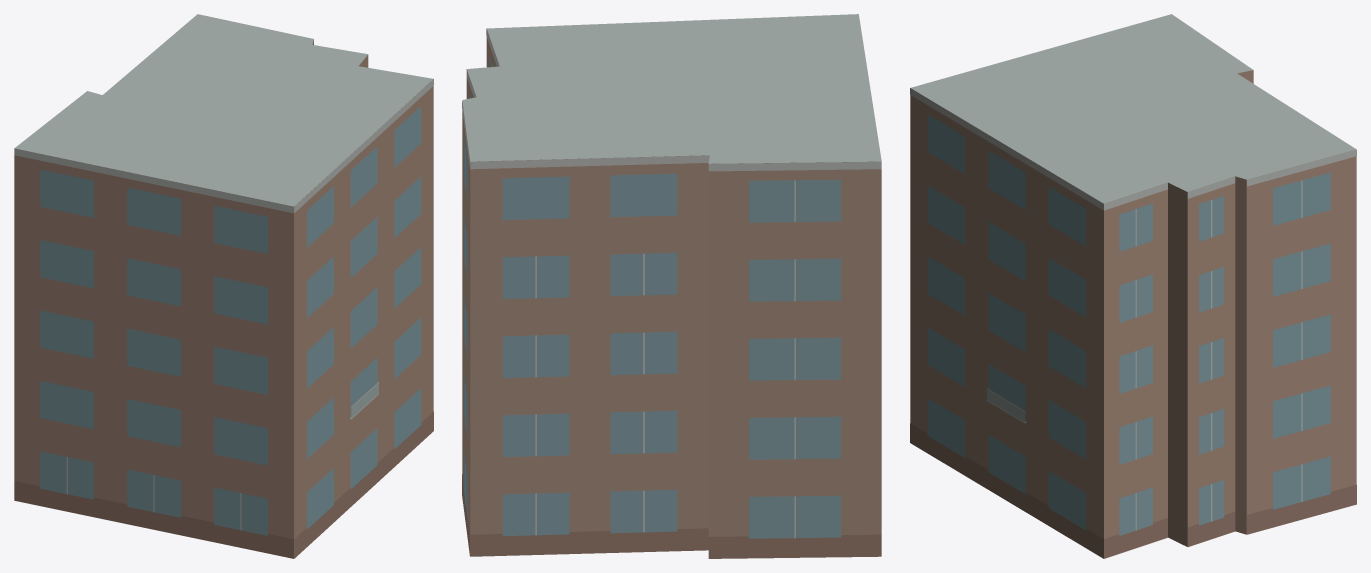
File: survey-upis-32903826.glb
The picture shows the model from 3 angles, left to right: view 1: azimuth 30°, elevation 25°; view 2: azimuth 150°, elevation 25°; view 3: azimuth 270°, elevation 25°; orthographic projection. The views are drawn at different scales.
Parts seen in each view (by area): view 1: survey-upis-32903826.tmp; view 2: survey-upis-32903826.tmp; view 3: survey-upis-32903826.tmp.
Boxes of the visible parts, x1,y1,x2,y2 form: survey-upis-32903826.tmp: [14, 14, 433, 558]; survey-upis-32903826.tmp: [462, 14, 881, 558]; survey-upis-32903826.tmp: [910, 14, 1356, 558].
Size of the model in its own units: 14.51 by 12.65 by 14.43.
